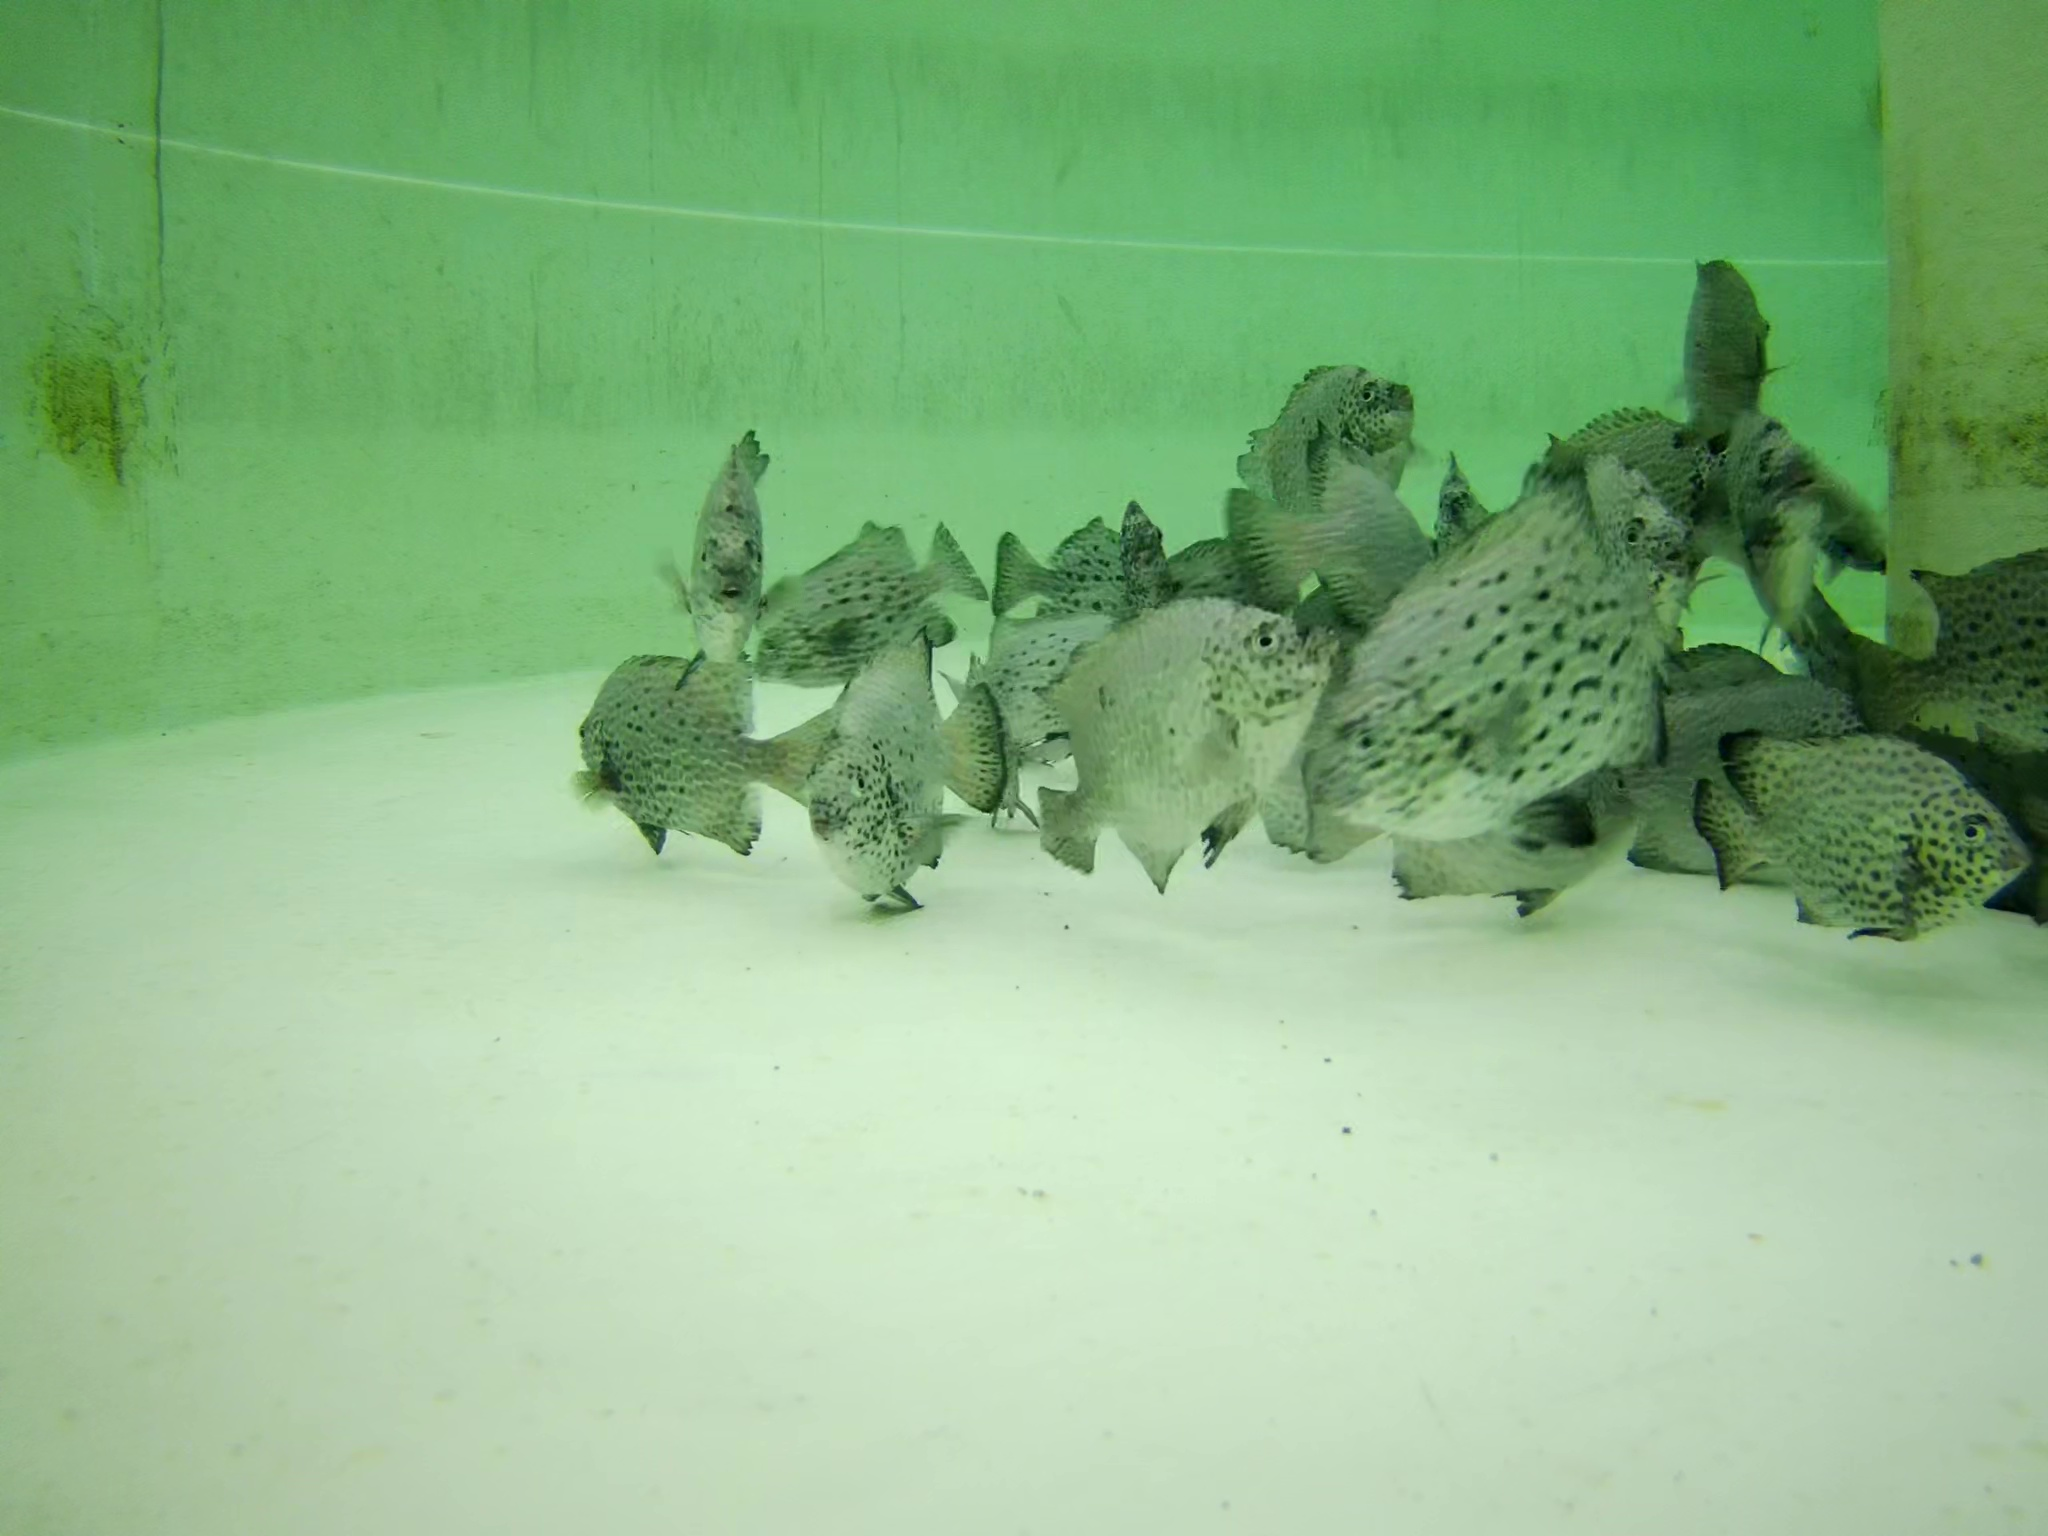fish: (1298, 444, 1653, 829), (1037, 592, 1335, 891), (1690, 728, 2029, 934), (1595, 645, 1869, 857), (793, 642, 1011, 894), (563, 657, 850, 839), (1856, 542, 2048, 734), (735, 521, 980, 670), (1392, 766, 1634, 912), (1221, 458, 1430, 613), (1224, 361, 1419, 523), (1535, 403, 1713, 553), (671, 432, 776, 668), (989, 518, 1169, 641), (1685, 247, 1769, 463), (1748, 428, 1824, 628), (1432, 471, 1501, 605), (1118, 503, 1177, 624)
